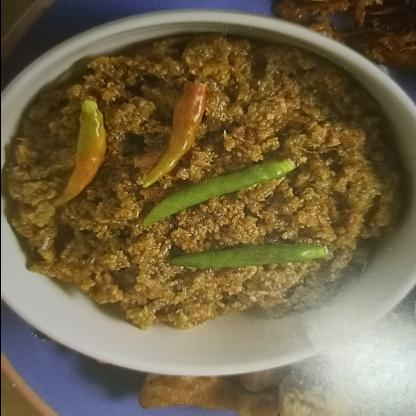Namprig: (6, 36, 406, 346)
